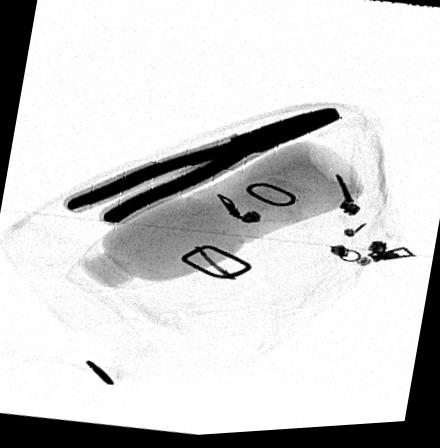Pliers: (66, 110, 340, 224)
